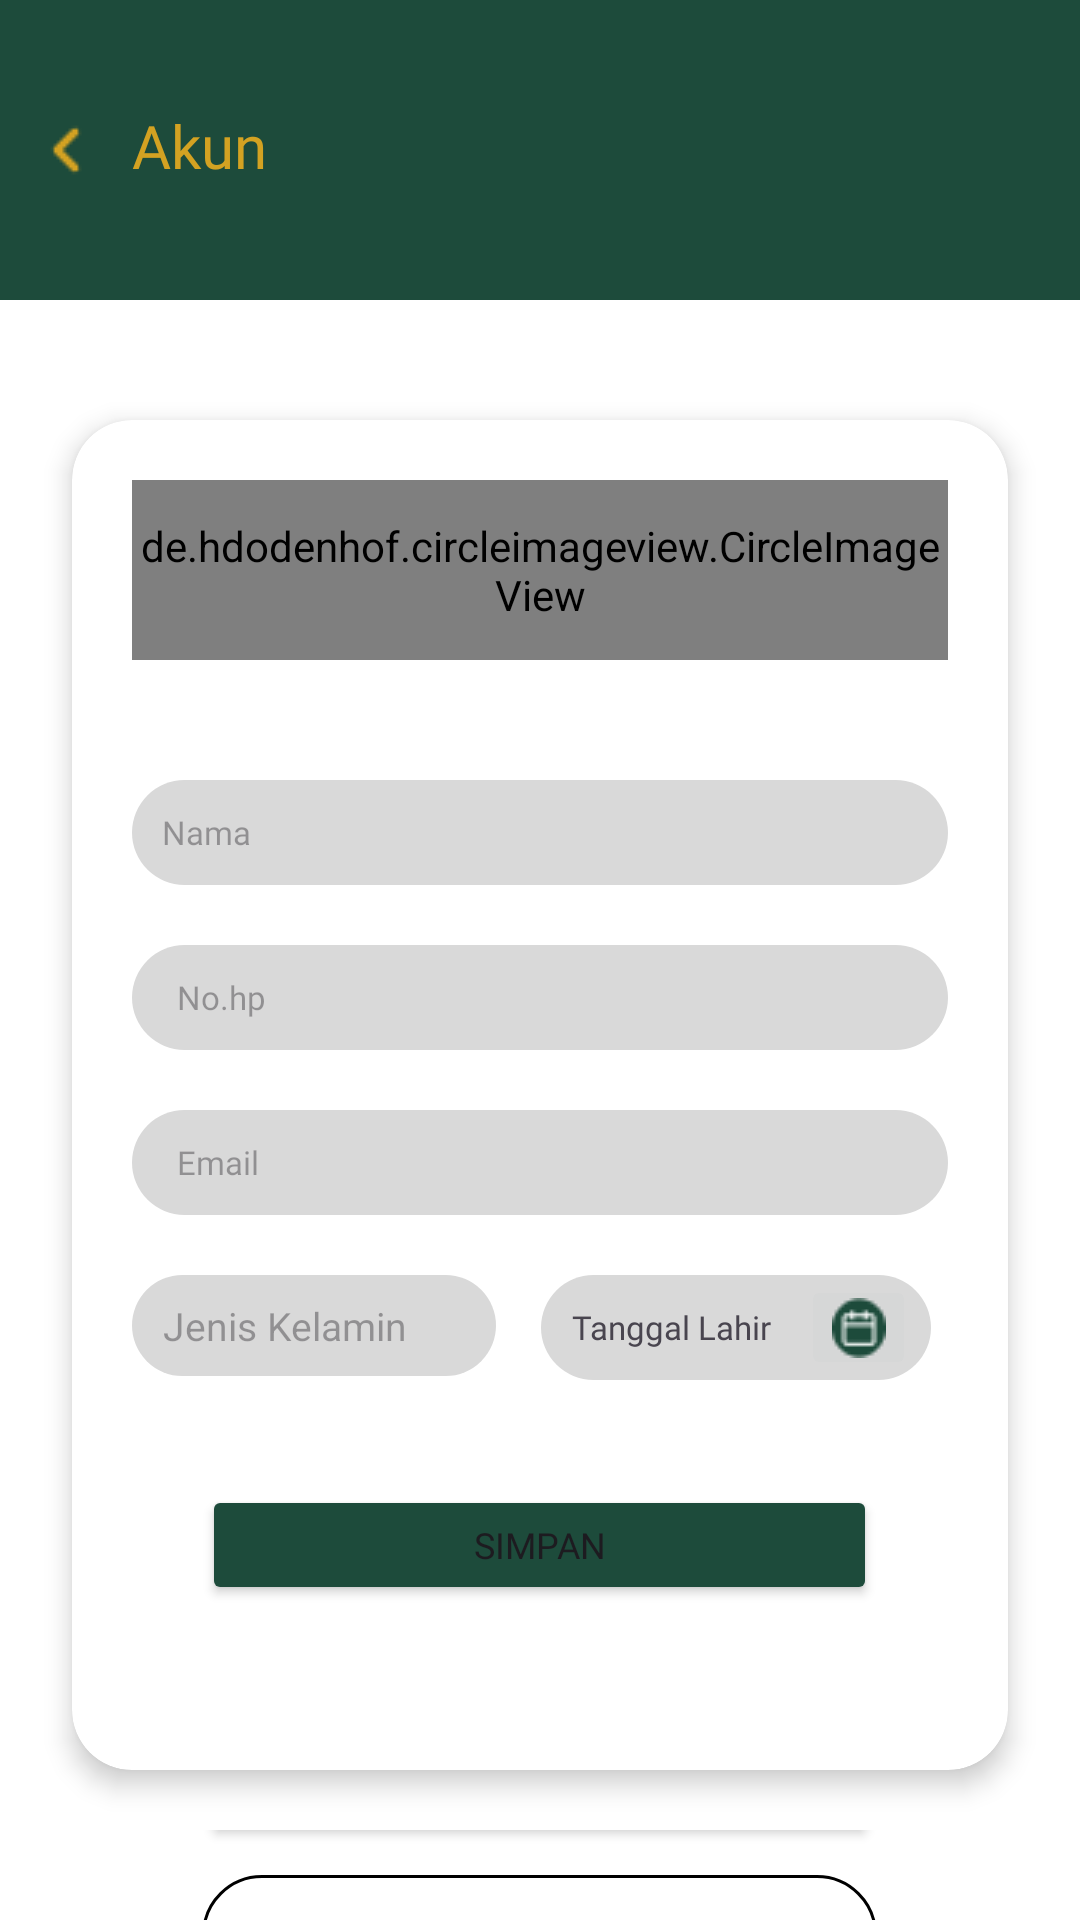

Named icons in this screenshot (1080px x 1920px) and their bounding boxes, [x1, y1, x2, y2]:
kembali: [53, 128, 79, 172]
